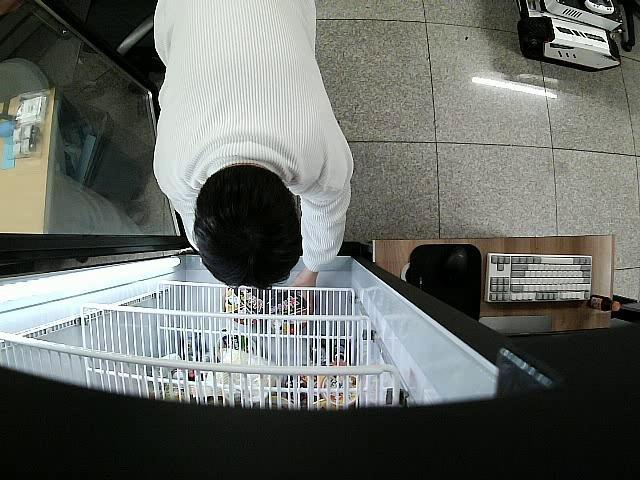07_buldak_L: (272, 292, 308, 334)
